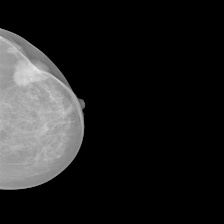Mass_1: (4, 53, 60, 95)
Mass_2: (4, 43, 22, 59)
